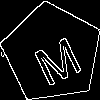M: (27, 28, 85, 88)
